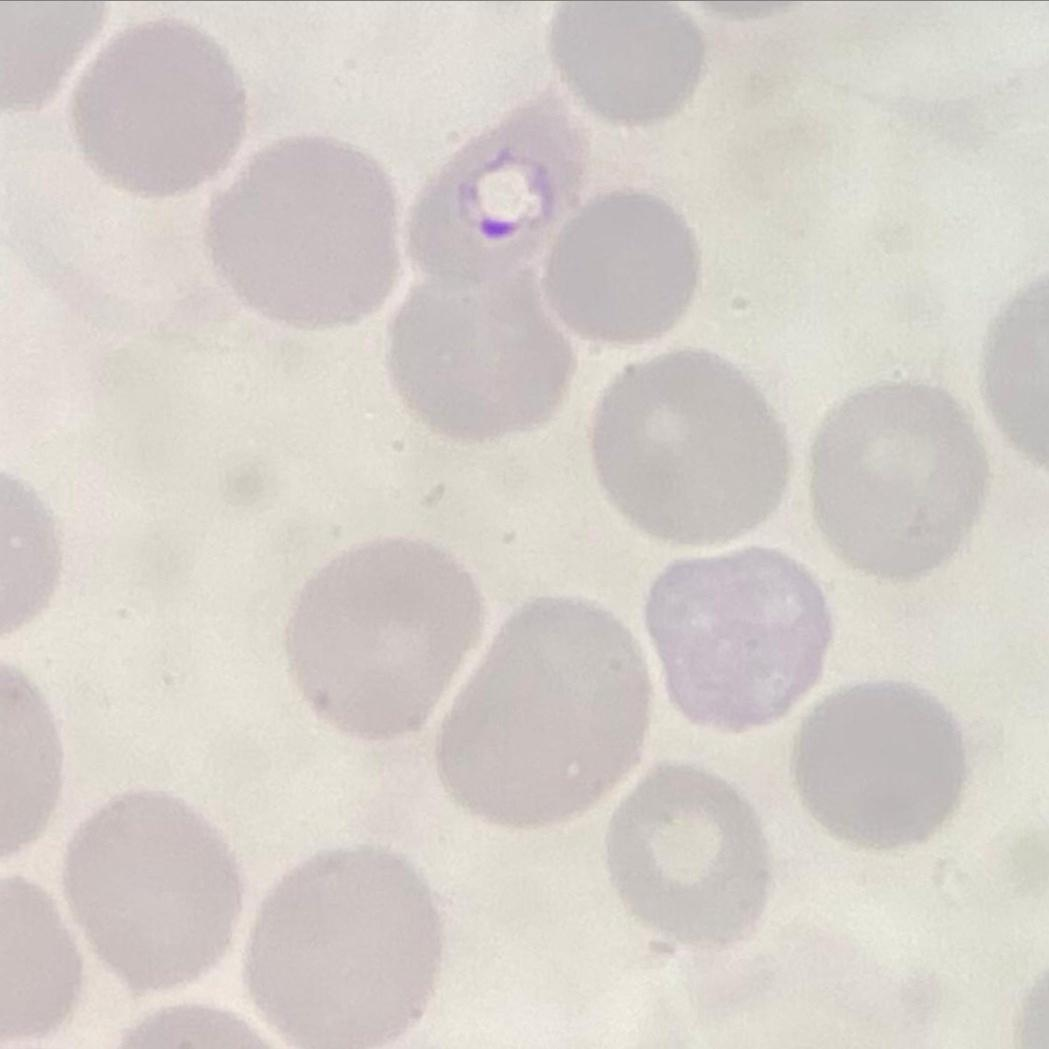Infected: (402, 92, 590, 281)
Uninfected: (430, 592, 648, 825), (244, 846, 442, 1049), (286, 539, 488, 737), (592, 348, 790, 547), (198, 134, 400, 323), (806, 376, 987, 582), (66, 786, 240, 988), (386, 264, 576, 440), (644, 546, 829, 726), (604, 762, 773, 948), (68, 18, 248, 190), (794, 678, 963, 851), (538, 188, 701, 344), (552, 0, 706, 126)
